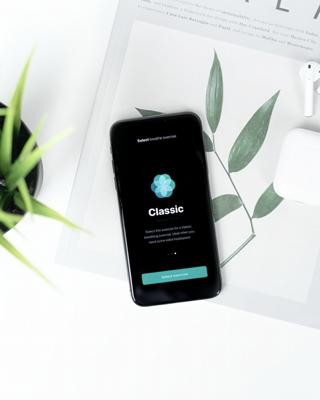cell-phone: (103, 109, 229, 309)
